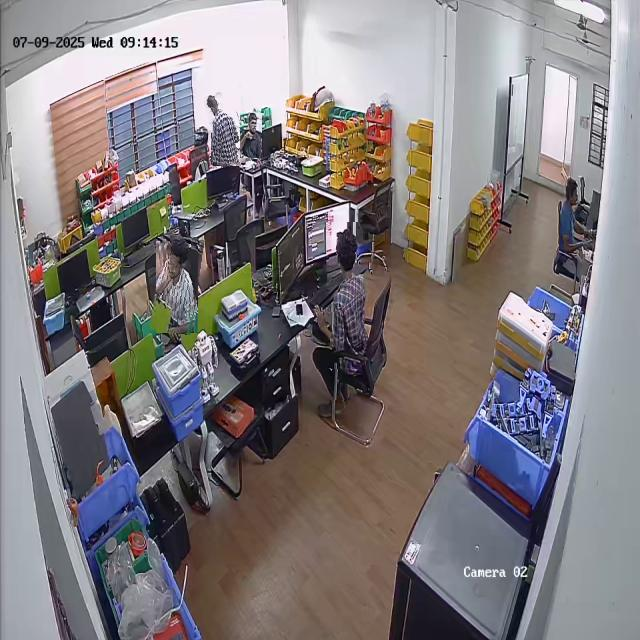person: (313, 222, 369, 400), (153, 236, 201, 334), (207, 88, 245, 167), (560, 177, 594, 254), (240, 113, 262, 158)
